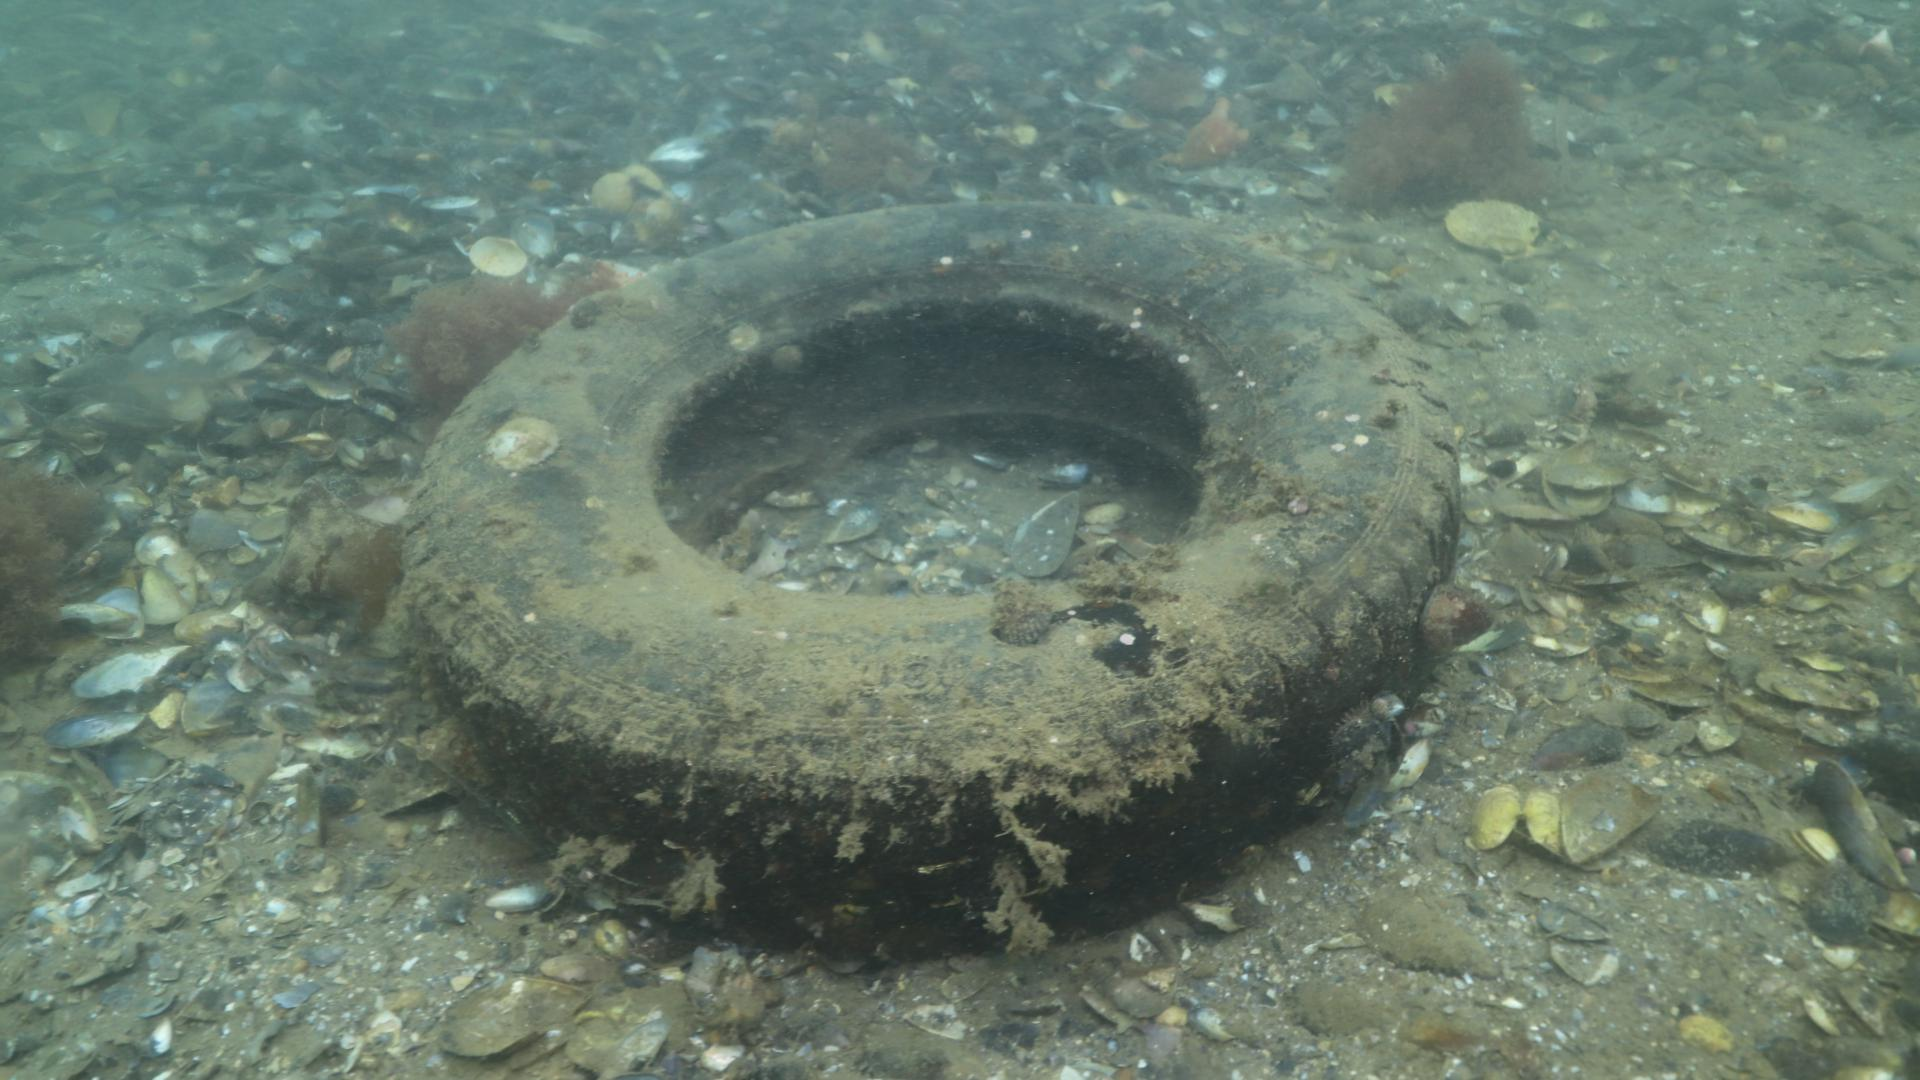tire: (392, 203, 1466, 938)
